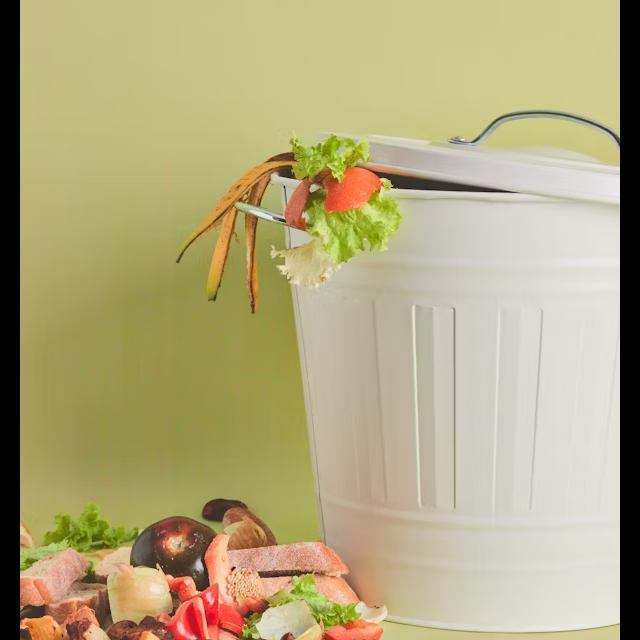food_waste: (168, 160, 291, 305), (292, 124, 403, 242), (28, 533, 136, 640), (207, 524, 332, 585), (193, 492, 273, 576), (128, 504, 200, 584), (306, 585, 391, 640), (20, 617, 137, 640)
